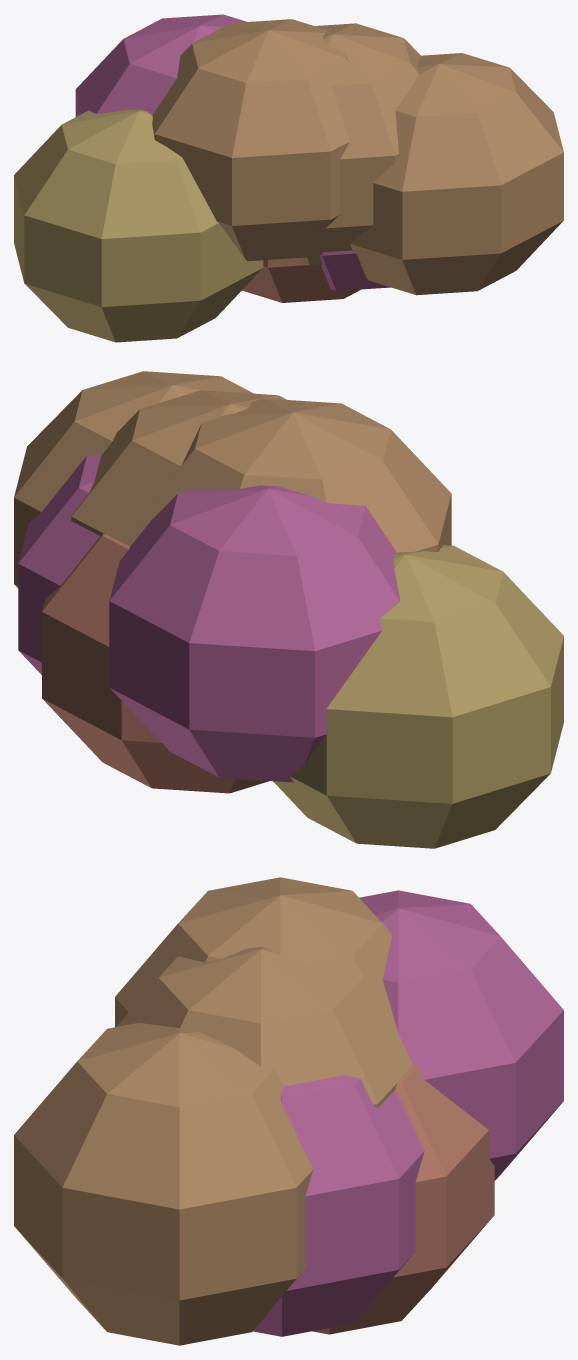
The model's file is AutumnBush.fbx.
3 renders of one model, top to bottom at view 1: azimuth 30°, elevation 25°; view 2: azimuth 150°, elevation 25°; view 3: azimuth 270°, elevation 25°, orthographic. The views are drawn at different scales.
Visible parts, largest first — view 1: Prop_AutumnBush; view 2: Prop_AutumnBush; view 3: Prop_AutumnBush.
Part boxes in pixels (x1,y1,x2,y2): Prop_AutumnBush: (14,14,563,342); Prop_AutumnBush: (14,371,563,848); Prop_AutumnBush: (14,877,563,1345).
Size of the model in its own units: 1.25 by 0.7375 by 0.948.
